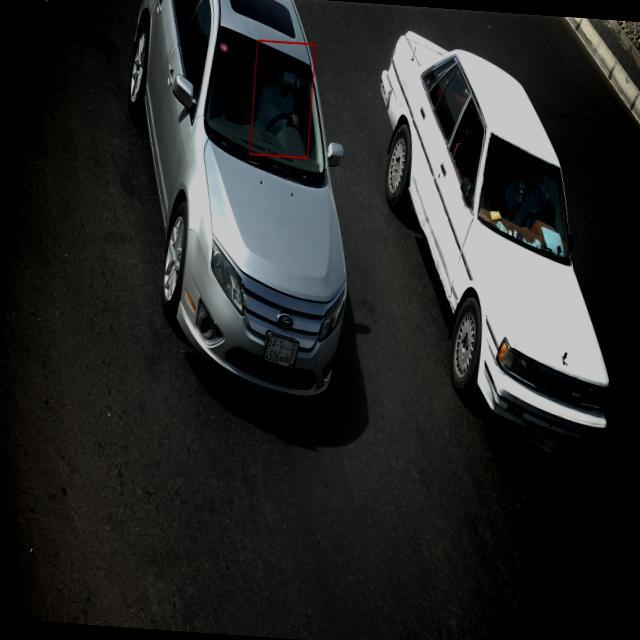windshield: (202, 23, 330, 192), (476, 130, 574, 268)
